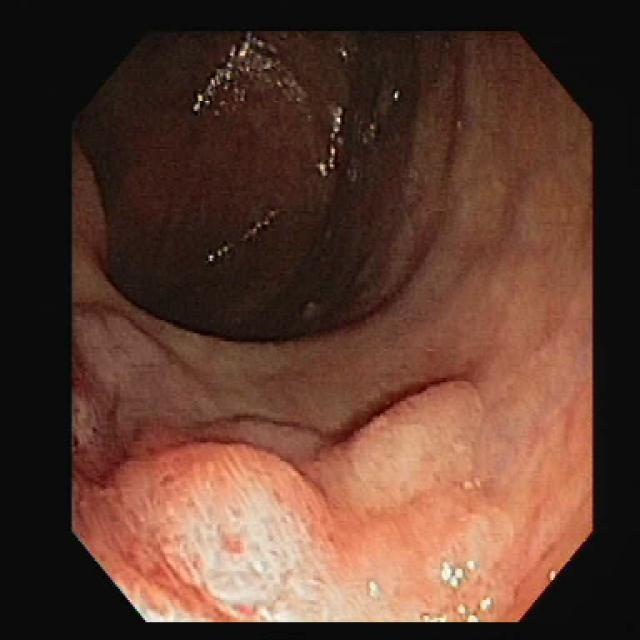tumor: (73, 307, 512, 620)
